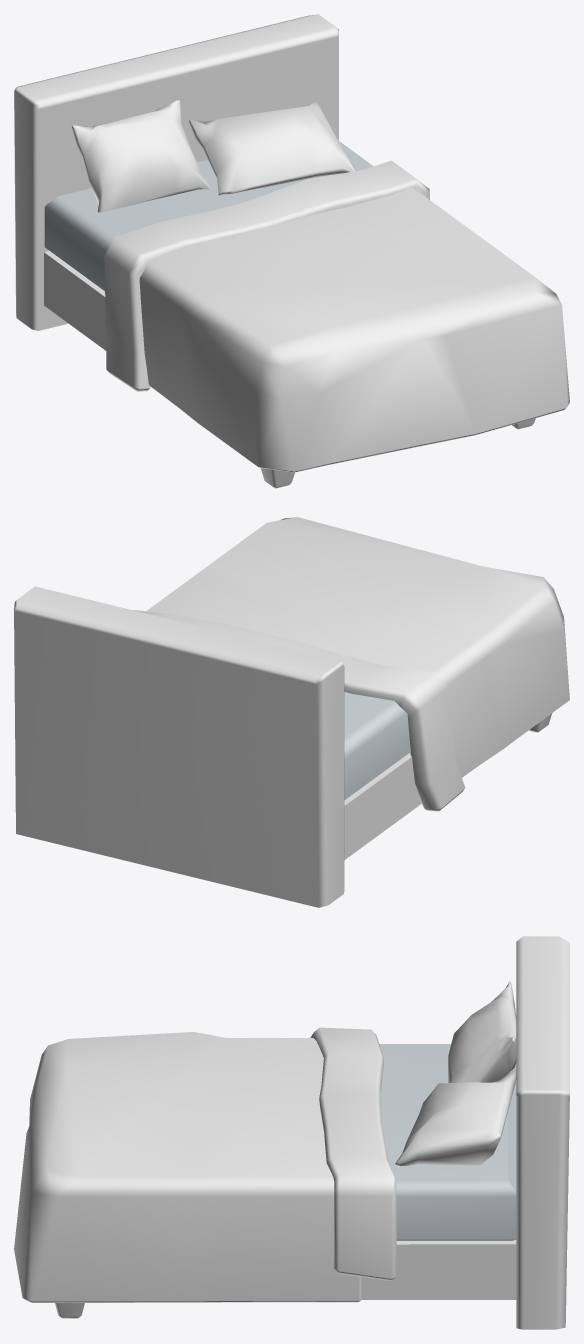
Rendered from bed_019.fbx.
3 renders of one model, top to bottom at view 1: azimuth 30°, elevation 25°; view 2: azimuth 150°, elevation 25°; view 3: azimuth 270°, elevation 25°, orthographic. The views are drawn at different scales.
Visible parts, largest first — view 1: bed_019; view 2: bed_019; view 3: bed_019.
Boxes of the visible parts, x1,y1,x2,y2 form: bed_019: [14, 14, 569, 488]; bed_019: [14, 517, 569, 907]; bed_019: [14, 936, 569, 1329].
Size of the model in its own units: 191 by 273 by 131.
